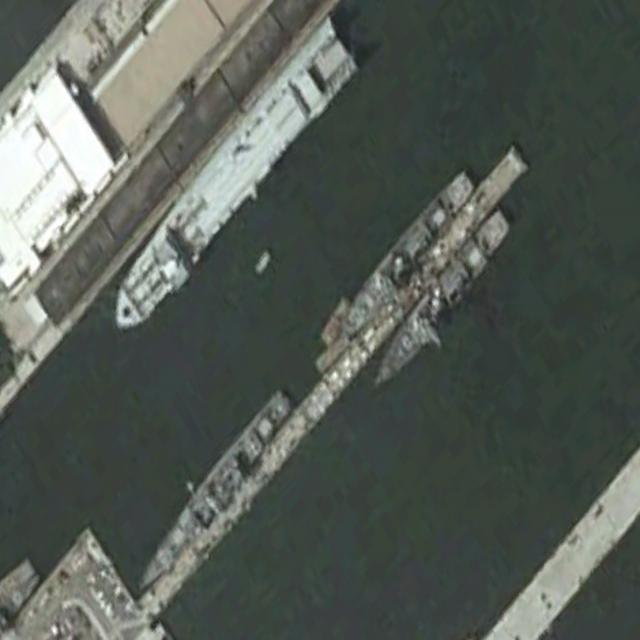Cargo: (97, 13, 362, 350)
Cruiser: (133, 380, 297, 605), (364, 204, 515, 399), (334, 163, 477, 345)
